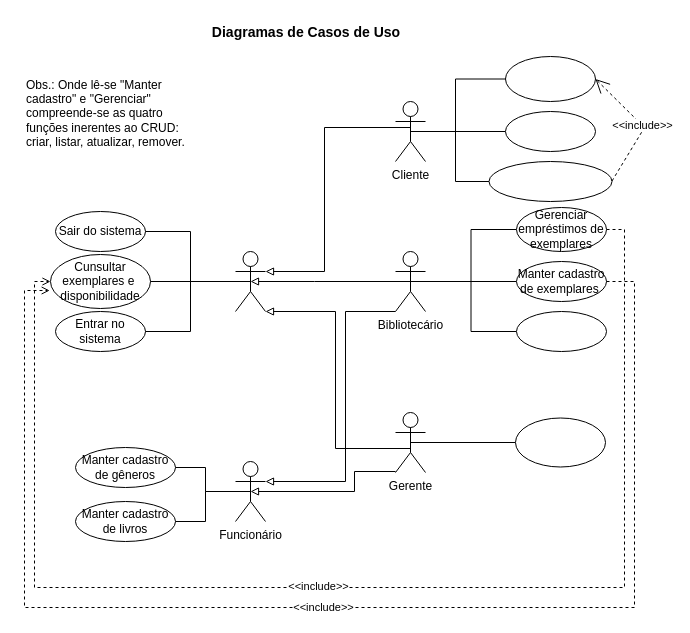
Some shapes in this 690 by 633 pixel diagram are drawn without their labels. Each missing label, with the centre of its shape:
"Consultar empréstimos pessoais" belongs at point 550,79.
"Gerenciar prazos de devolução" belongs at point 561,331.
"Manter cadastro de funcionário" belongs at point 560,442.
"Realizar cadastro no sistema" belongs at point 550,131.
"Solicitar aumento de prazo do empréstimo" belongs at point 550,181.
"Usuário Logado" belongs at point 250,281.
